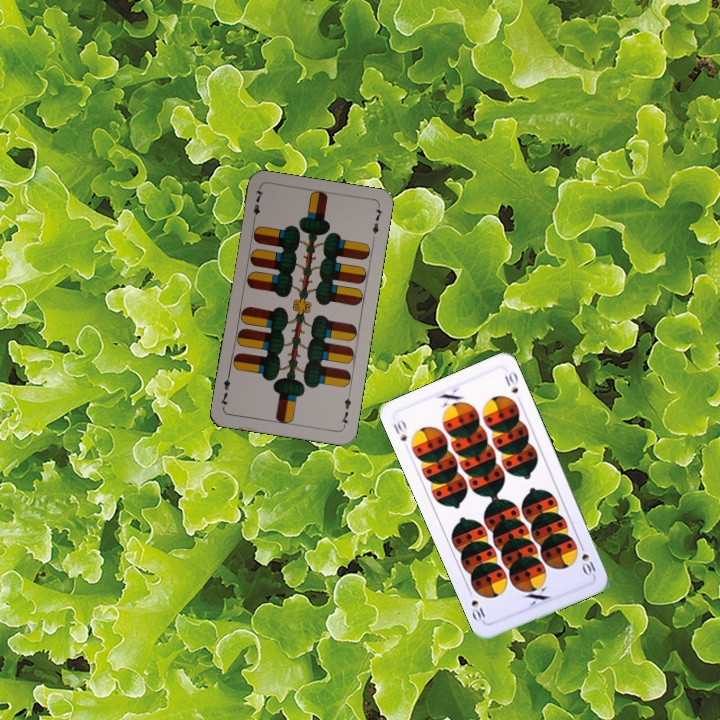E7: (249, 184, 266, 225), (337, 389, 353, 430)
S10: (576, 539, 599, 578), (389, 415, 410, 444)
